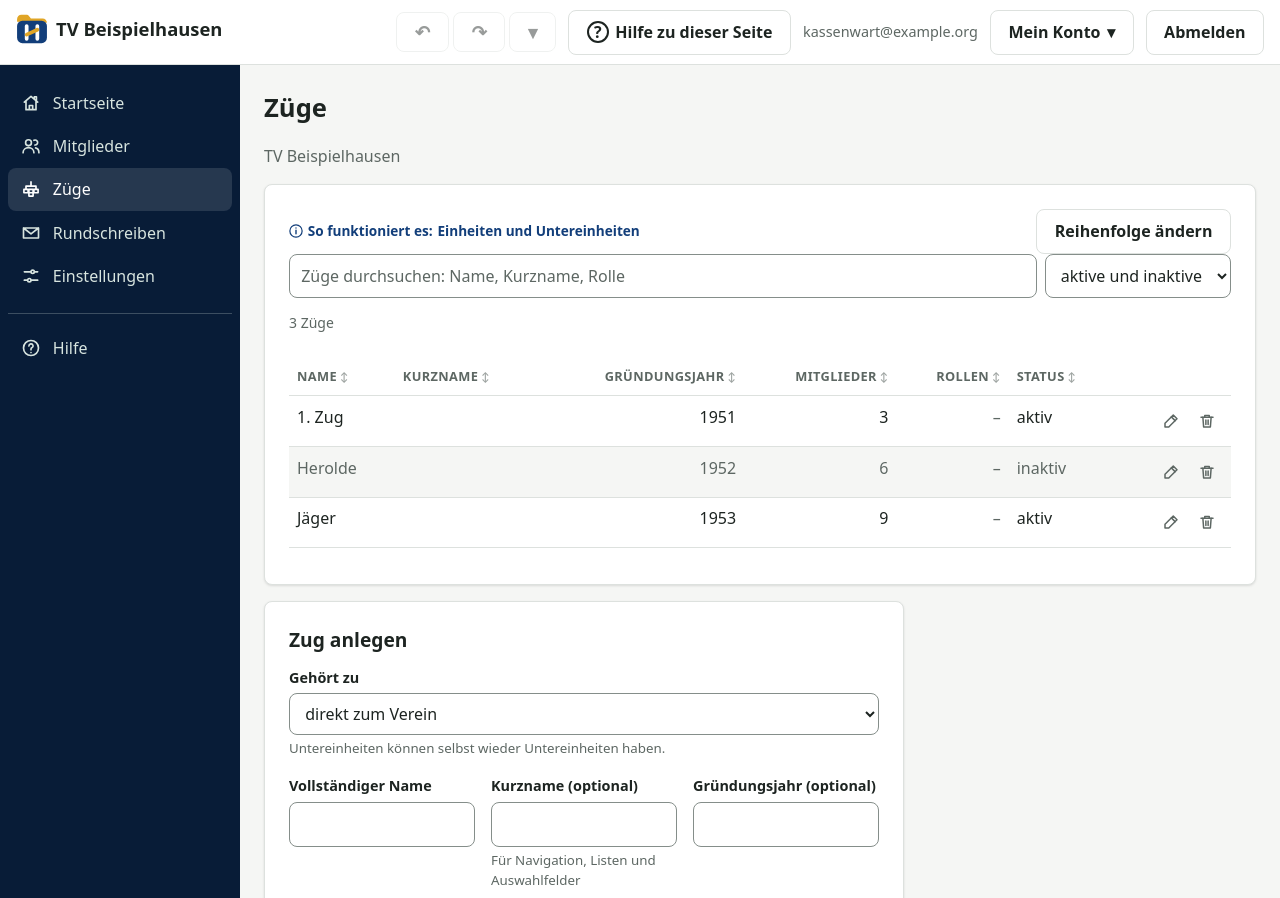
Züge als Tabelle › öffnet die Bearbeitung über das Stift-Icon
The image size is (1280, 898).
Click the button named "Jäger bearbeiten".
click(1171, 522)  # box [1155,506,1187,538]
(page scrolled)
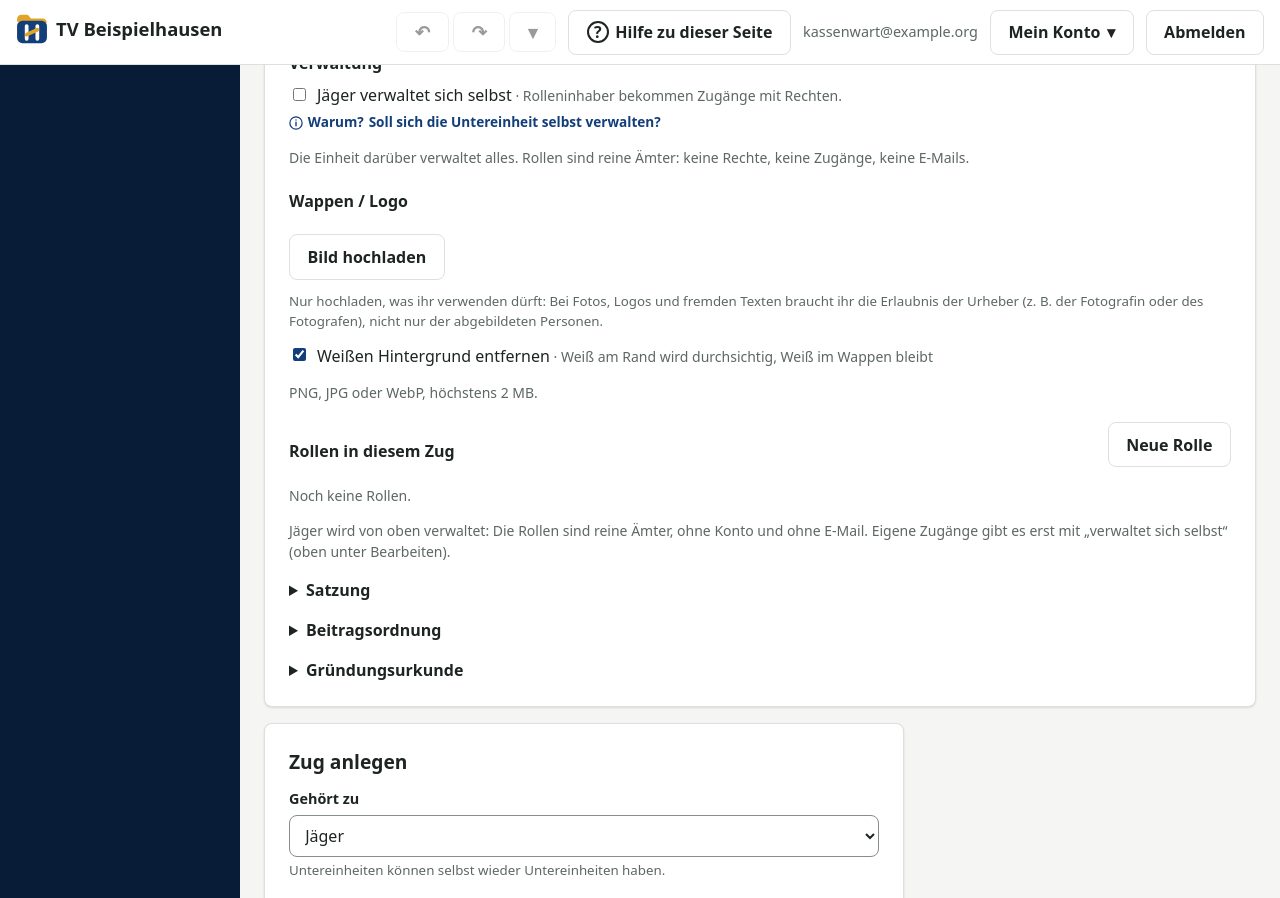
Result: the heading "Rollen in diesem Zug" is shown at [289,438,455,462]
